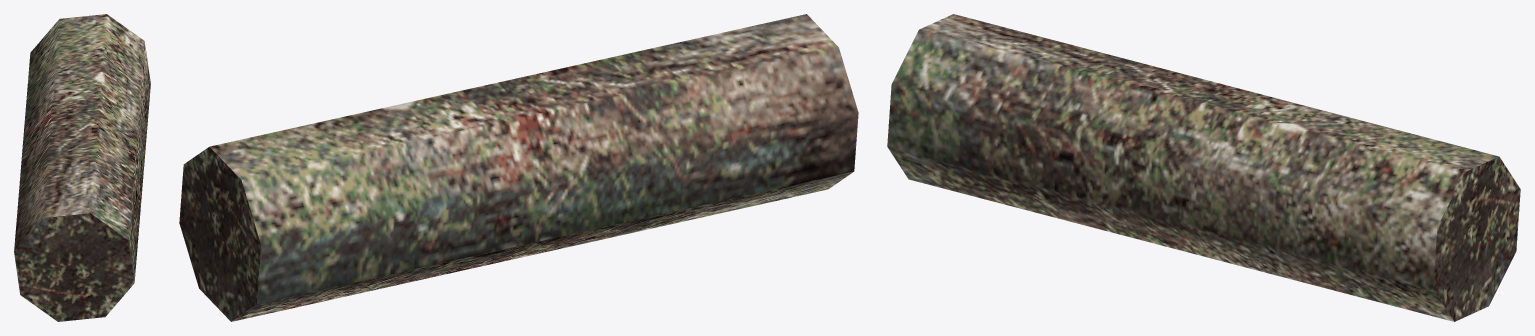
Rendered from fp_log_4.glb.
3 views of the same model, side by side, from view 1: azimuth 30°, elevation 25°; view 2: azimuth 150°, elevation 25°; view 3: azimuth 270°, elevation 25° (orthographic). The views are drawn at different scales.
Visible parts, largest first — view 1: _MeshInstance3D_30; view 2: _MeshInstance3D_30; view 3: _MeshInstance3D_30.
Part boxes in pixels (x1=…): _MeshInstance3D_30: x1=14, y1=14, x2=150, y2=321; _MeshInstance3D_30: x1=179, y1=14, x2=858, y2=321; _MeshInstance3D_30: x1=887, y1=14, x2=1520, y2=321.
Size of the model in its own units: 0.8345 by 0.2899 by 1.1.
1 material, 1 textured.
